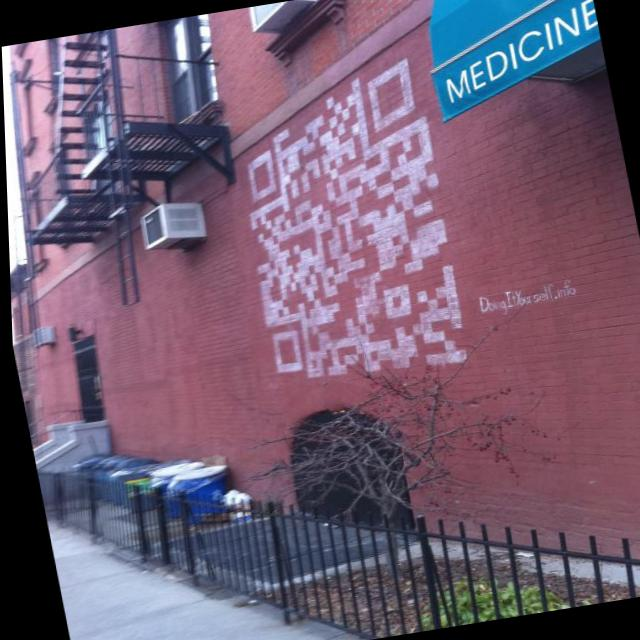qrcode: (213, 41, 473, 393)
